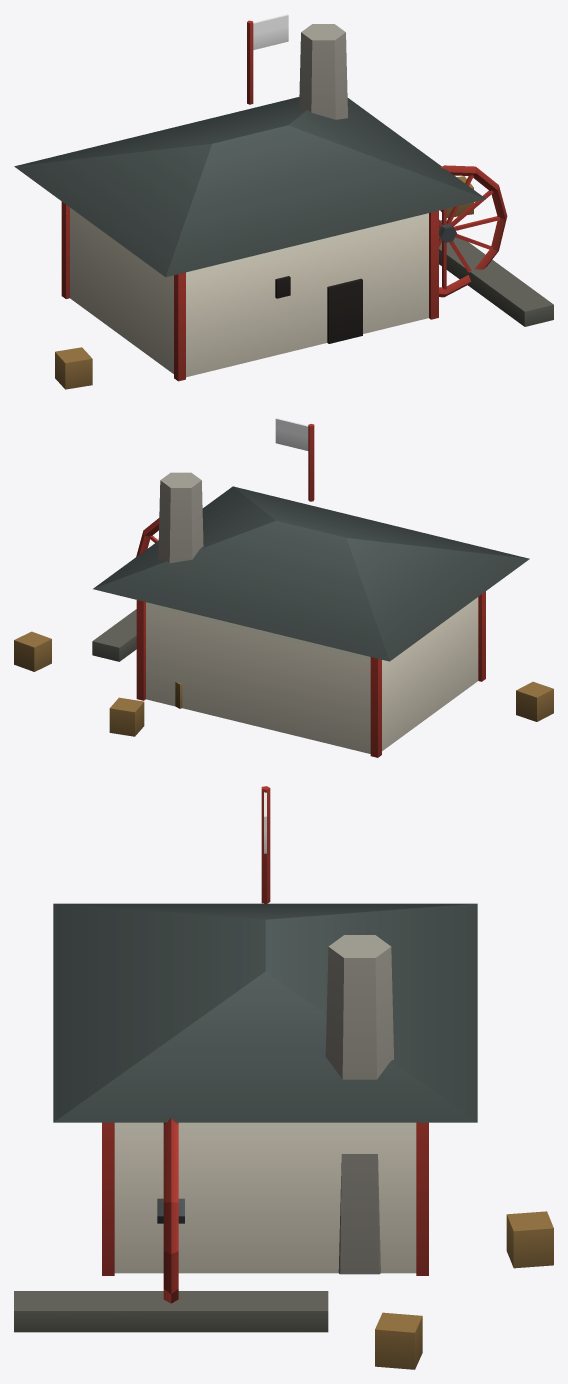
The model's file is FACTORY_EA.glb.
3 renders of one model, top to bottom at view 1: azimuth 30°, elevation 25°; view 2: azimuth 150°, elevation 25°; view 3: azimuth 270°, elevation 25°, orthographic. The views are drawn at different scales.
Visible parts, largest first — view 1: Body, Wheel_water, Flag; view 2: Body, Flag; view 3: Body, Wheel_water.
Boxes of the visible parts, <box> form: Body: <box>14,20,553,389</box>; Wheel_water: <box>439,165,507,297</box>; Flag: <box>253,14,288,49</box>; Body: <box>14,424,553,757</box>; Flag: <box>275,418,308,450</box>; Body: <box>14,786,553,1369</box>; Wheel_water: <box>157,1118,184,1303</box>.
Bounding box in the file's own units: 5.05 × 2.85 × 3.43.
1 material, 1 textured.
